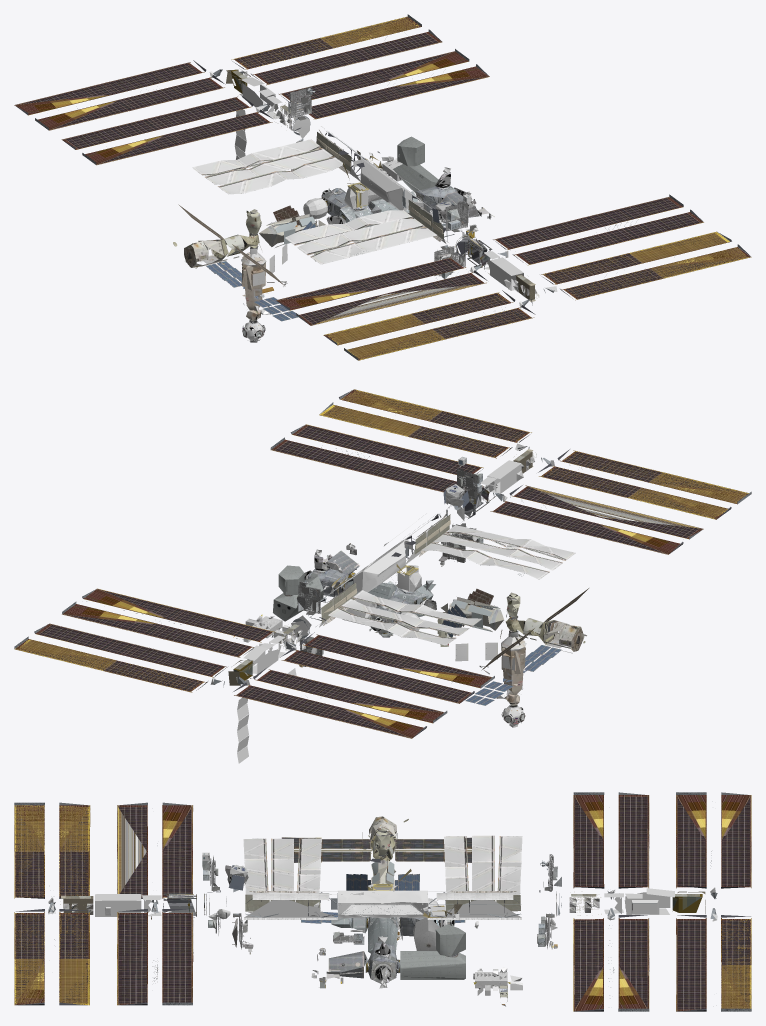
The picture shows the model from 3 angles, top to bottom: view 1: azimuth 30°, elevation 25°; view 2: azimuth 150°, elevation 25°; view 3: azimuth 270°, elevation 25°; orthographic projection. The views are drawn at different scales.
Visible parts, largest first — view 1: IGOAL_SSREF; view 2: IGOAL_SSREF; view 3: IGOAL_SSREF.
Boxes of the visible parts, x1,y1,x2,y2 form: IGOAL_SSREF: (14,14,751,360); IGOAL_SSREF: (14,389,751,763); IGOAL_SSREF: (14,792,751,1011).
Size of the model in its own units: 73.27 by 30.25 by 108.
44 materials, 42 textured.
